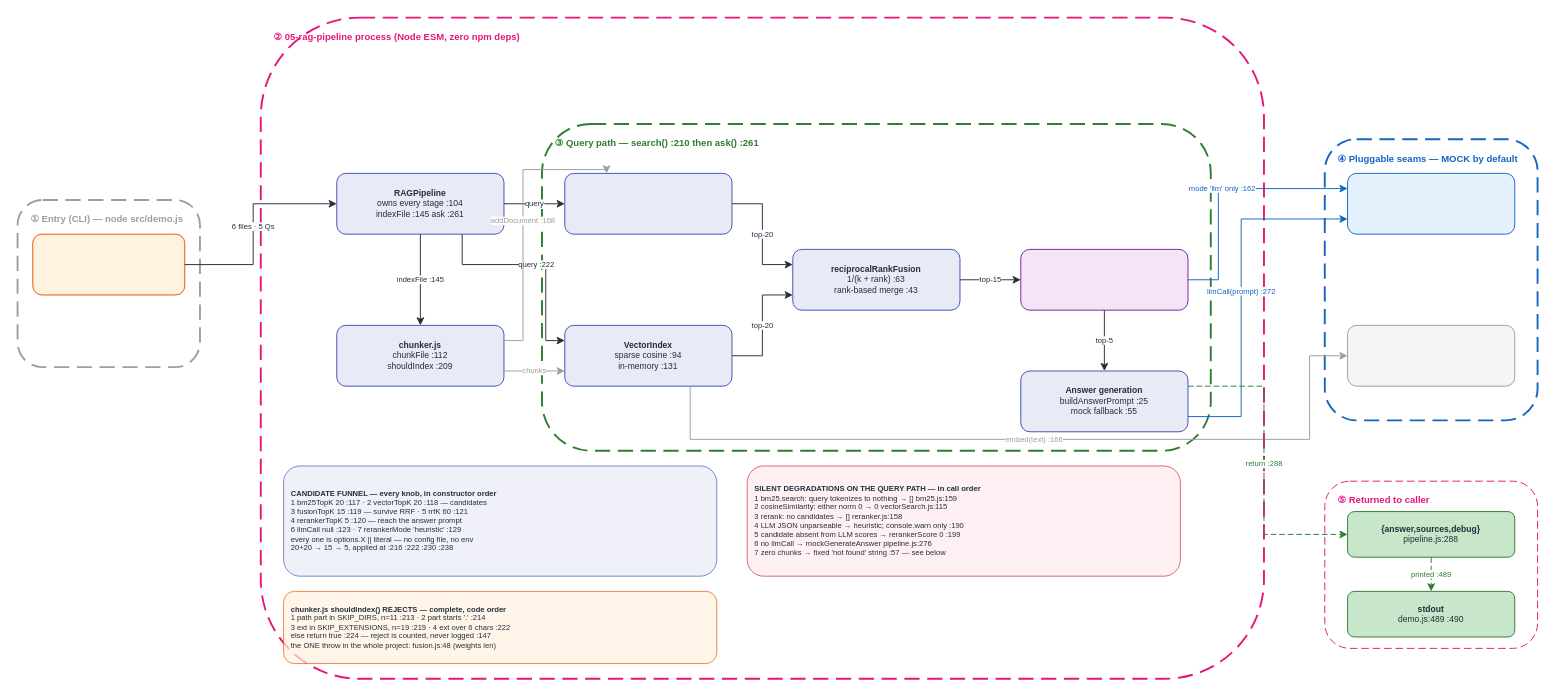
Image size: 1554x695. Some labels were removed from this diagram. Here are the shapes that lost their labels. From the top down, the box of each, then its label:
(564, 172, 732, 234): BM25Index inverted index :76 k1=1.2 b=0.75 :67
(1347, 172, 1515, 234): llmCall(prompt) caller-supplied :113 default null :123
(32, 233, 185, 295): demo.js SAMPLE_CODEBASE :16 5 questions :474
(1020, 248, 1188, 310): Reranker.rerank heuristic | llm :157 score 0-10 :96
(1347, 324, 1515, 386): MockEmbedding bag-of-words :36 no network call :46
